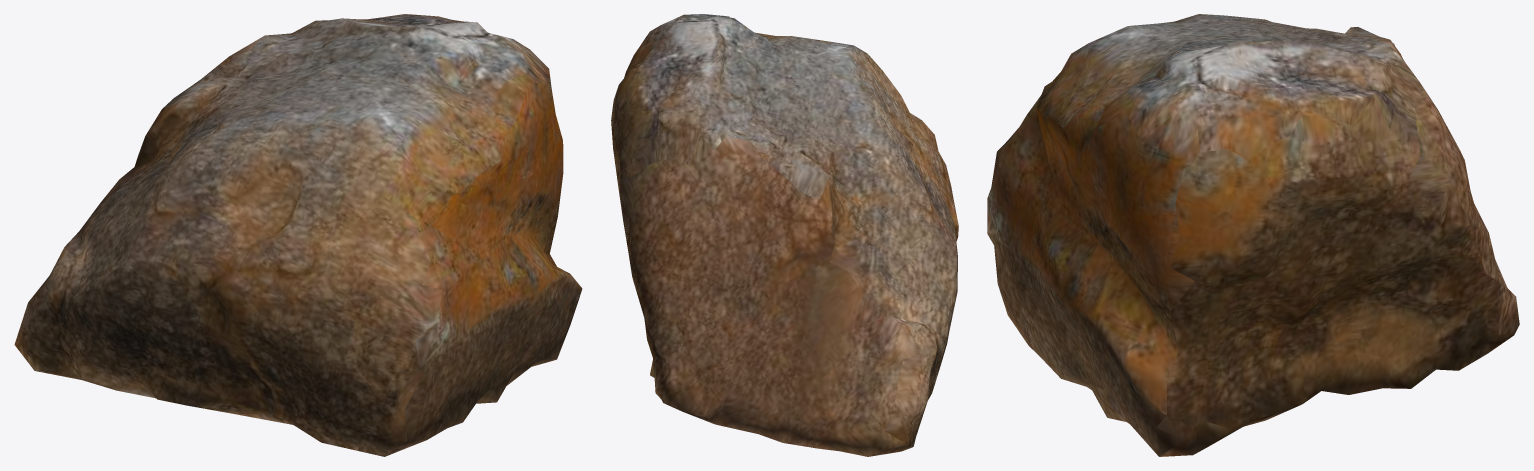
The model's file is boulder_04.glb.
3 renders of one model, left to right at view 1: azimuth 30°, elevation 25°; view 2: azimuth 150°, elevation 25°; view 3: azimuth 270°, elevation 25°, orthographic. The views are drawn at different scales.
Parts seen in each view (by area): view 1: boulder_04; view 2: boulder_04; view 3: boulder_04.
Part boxes in pixels (<box>): boulder_04: <box>14,14,582,456</box>; boulder_04: <box>611,14,958,456</box>; boulder_04: <box>987,14,1519,456</box>.
Bounding box in the file's own units: 2.78 × 2.09 × 2.76.
Materials: 1 (1 with a texture image).
